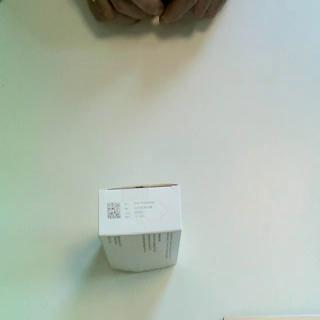dolcontin5mg: (97, 182, 185, 276)
